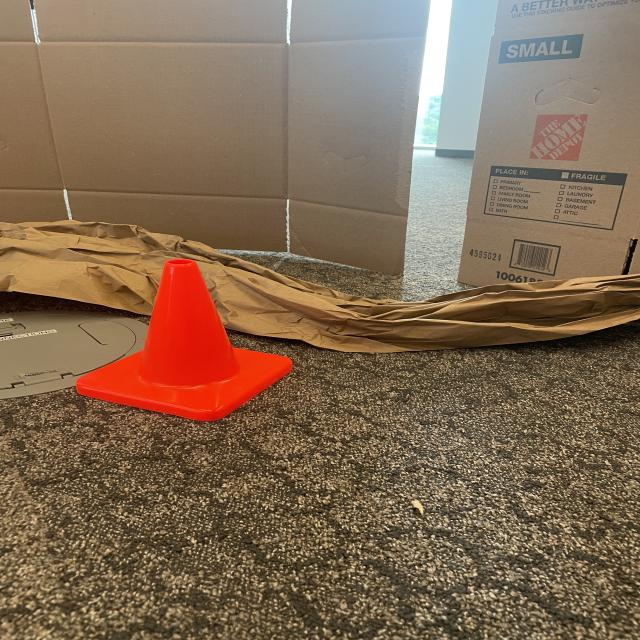Traffic Cone: (63, 254, 301, 442)
